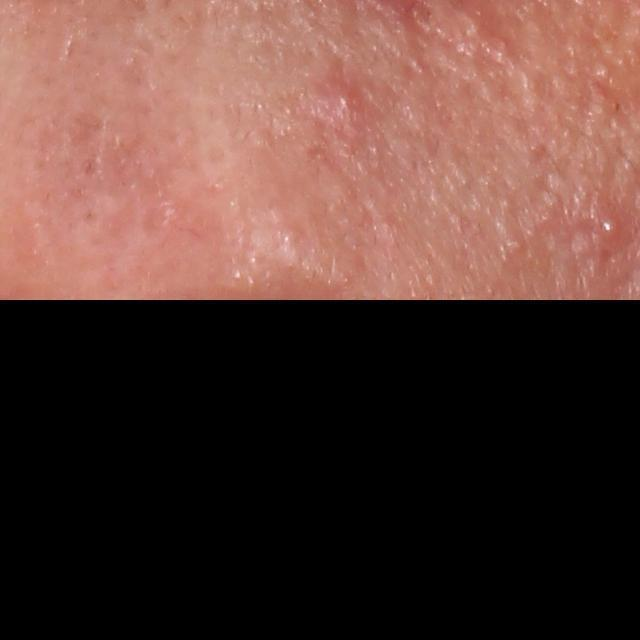comedo: (508, 238, 529, 263)
papule: (331, 82, 366, 118)
pustule: (587, 209, 629, 245)
